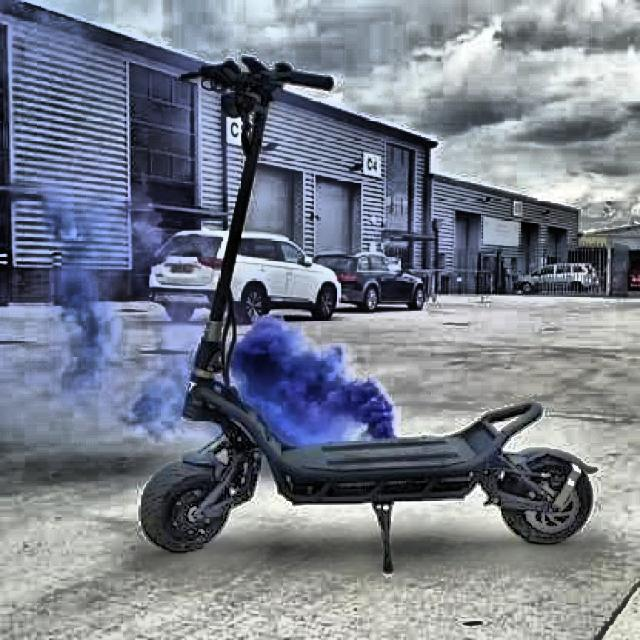bike: (137, 71, 604, 575), (137, 233, 600, 575)
car: (147, 229, 342, 325), (313, 252, 426, 313), (513, 262, 599, 295), (628, 265, 640, 292)
